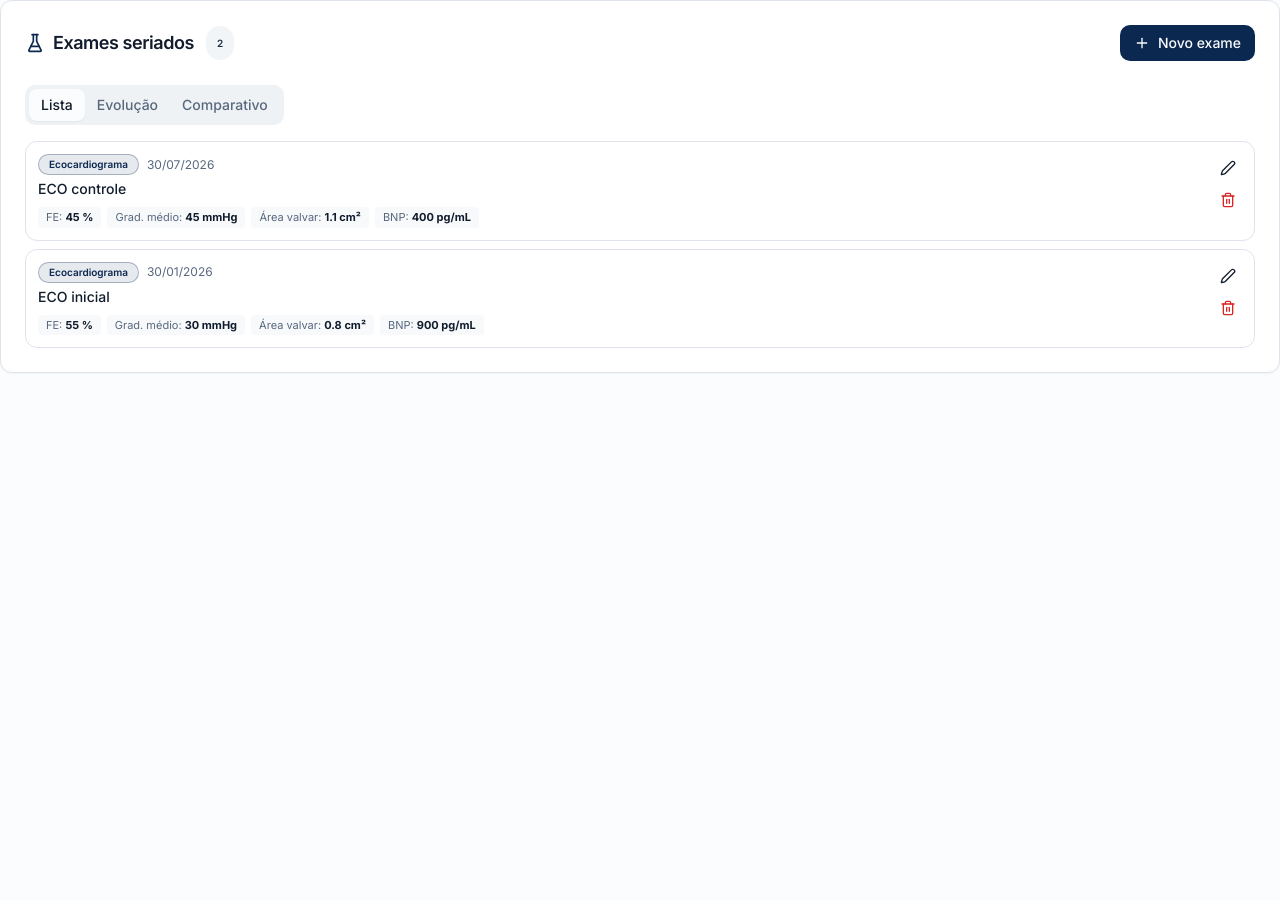
Test: CaseExams › a oferta de levar as medidas ao caso › a leitura do caso falhando: avisa, em vez de sumir com a oferta
Later steps or results of the test are not shown.
Check: the text "ECO controle" is shown, box [38,180,126,197]
Click the button "Novo exame" at [1187, 43], box [1120,25,1255,61]
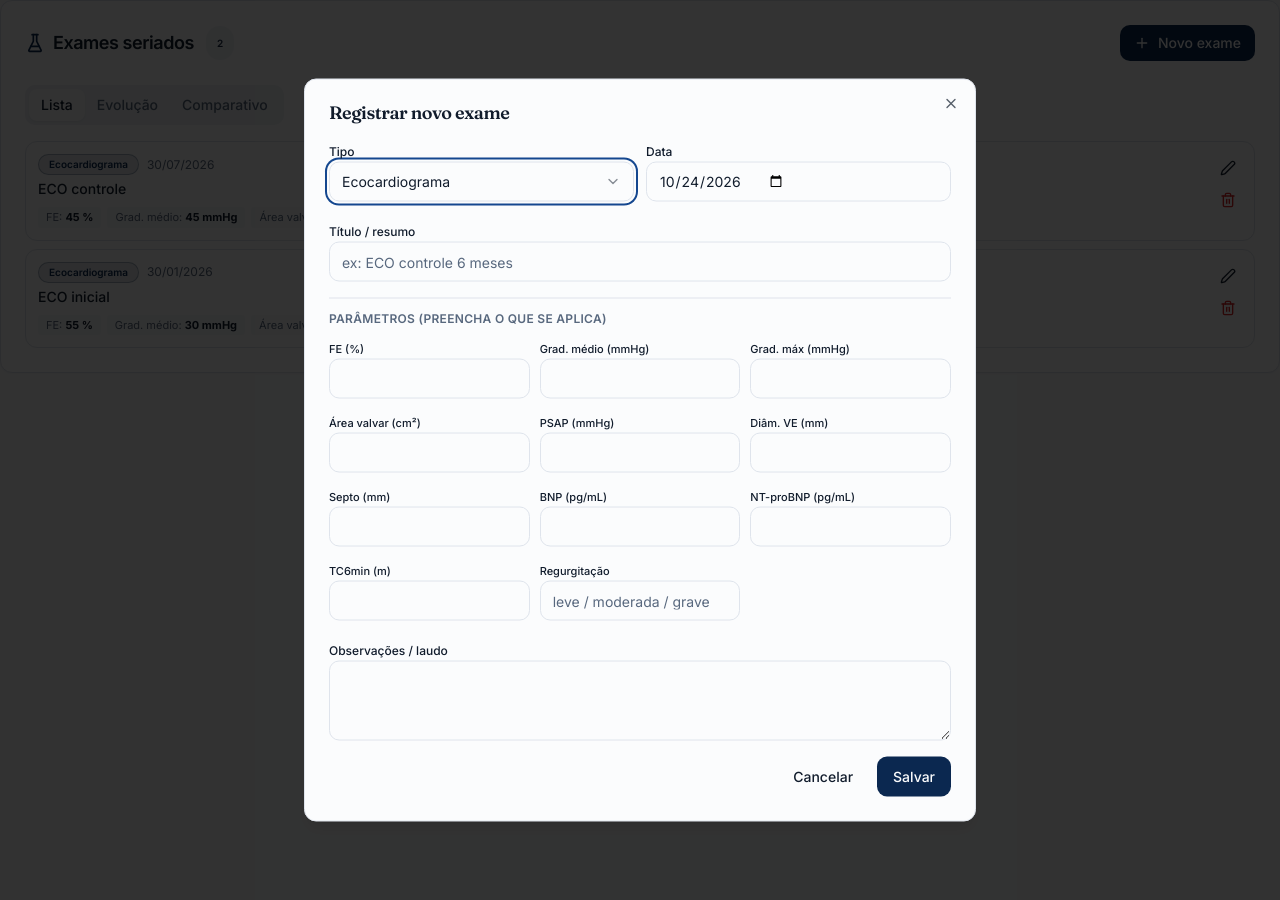
Check: the heading "Registrar novo exame" is shown, box [329,100,509,124]
